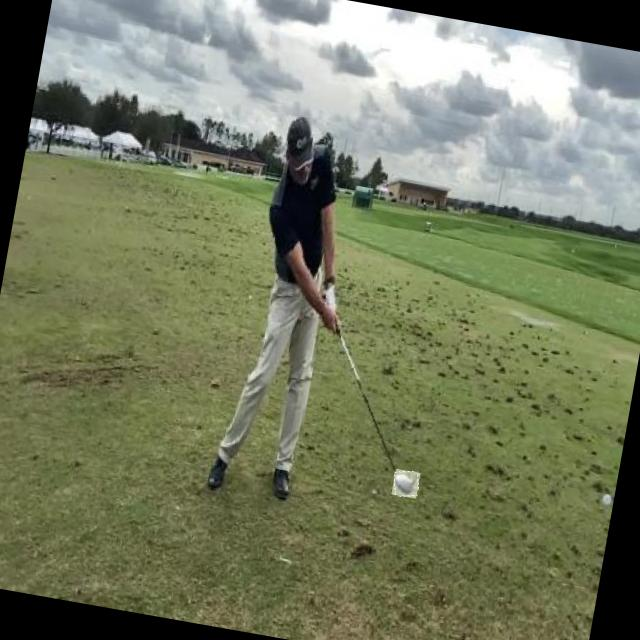club head: (391, 468, 420, 498)
